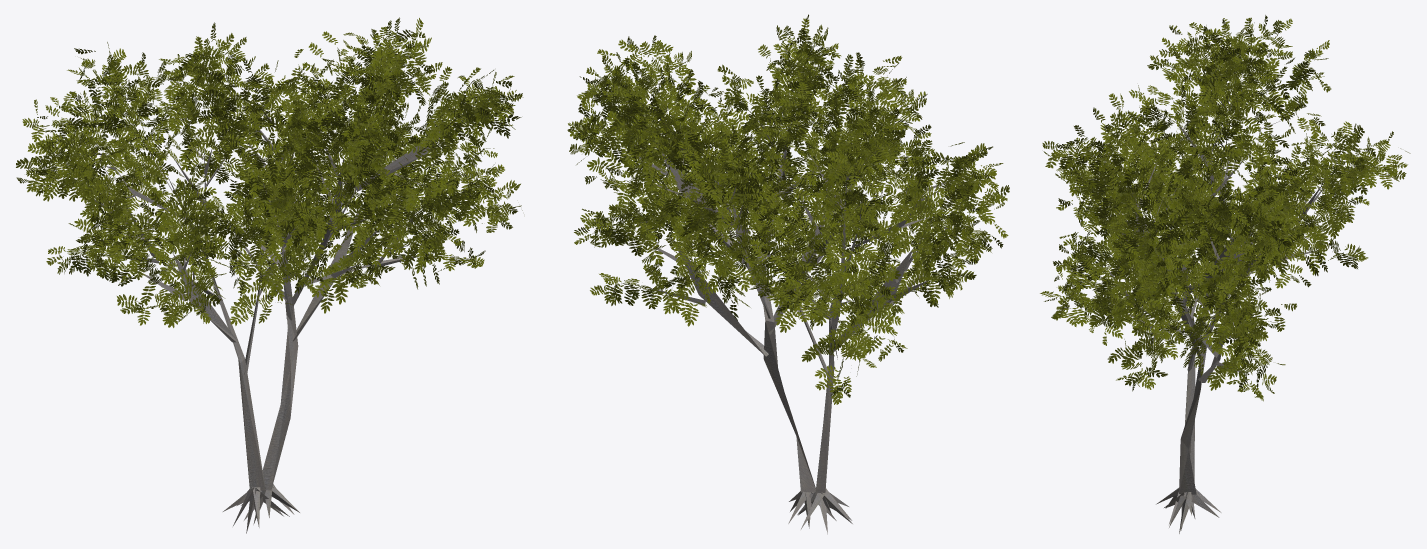
File: Tree_Ash_Medium.obj
3 views of the same model, side by side, from view 1: azimuth 30°, elevation 25°; view 2: azimuth 150°, elevation 25°; view 3: azimuth 270°, elevation 25° (orthographic). The views are drawn at different scales.
Visible parts, largest first — view 1: Tree_Ash_Medium; view 2: Tree_Ash_Medium; view 3: Tree_Ash_Medium.
Boxes of the visible parts, x1,y1,x2,y2 form: Tree_Ash_Medium: [16, 17, 523, 533]; Tree_Ash_Medium: [567, 14, 1009, 534]; Tree_Ash_Medium: [1040, 15, 1410, 533].
Size of the model in its own units: 87.14 by 90.24 by 64.91.
